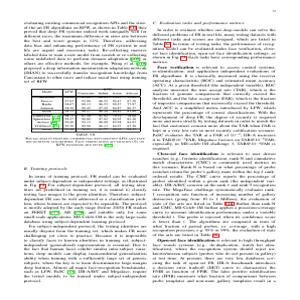table: (27, 87, 144, 136)
text: (151, 19, 279, 284), (21, 166, 148, 285), (19, 19, 148, 87)
